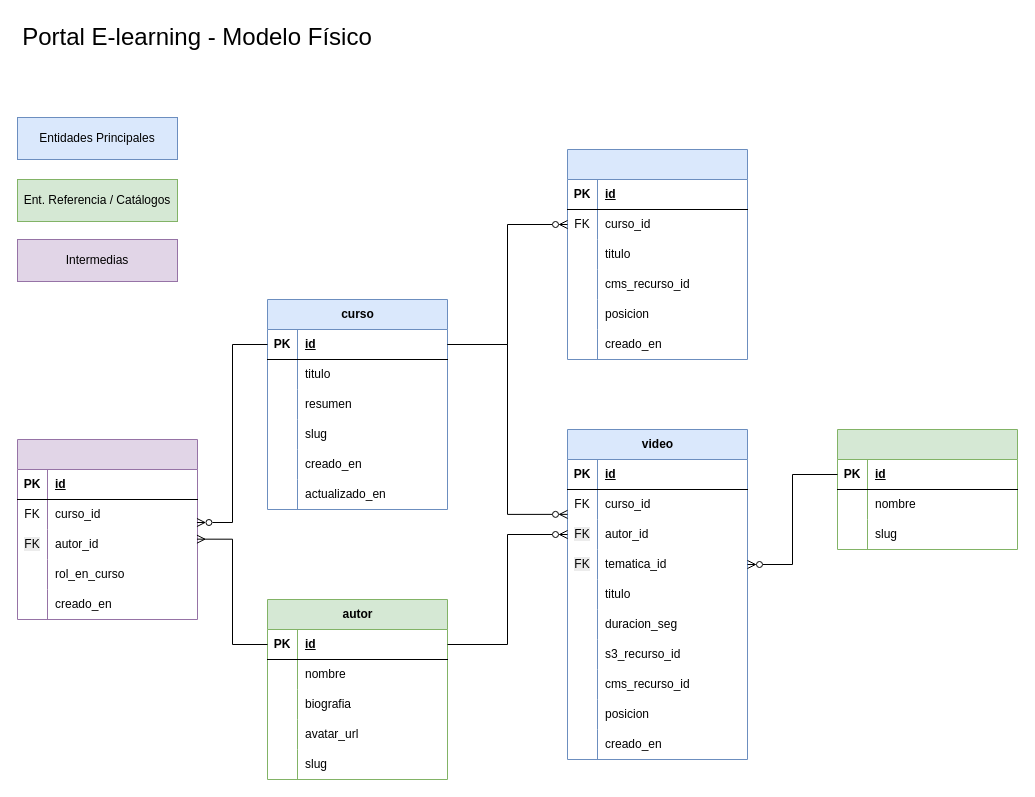
Image size: 1035x797. Some labels were removed from this diagram. Here are the shapes that lost their labels. From the top down, the box of each, then its label:
(566, 148, 748, 360): articulo
(836, 428, 1018, 550): tematica
(16, 438, 198, 620): curso_autor
